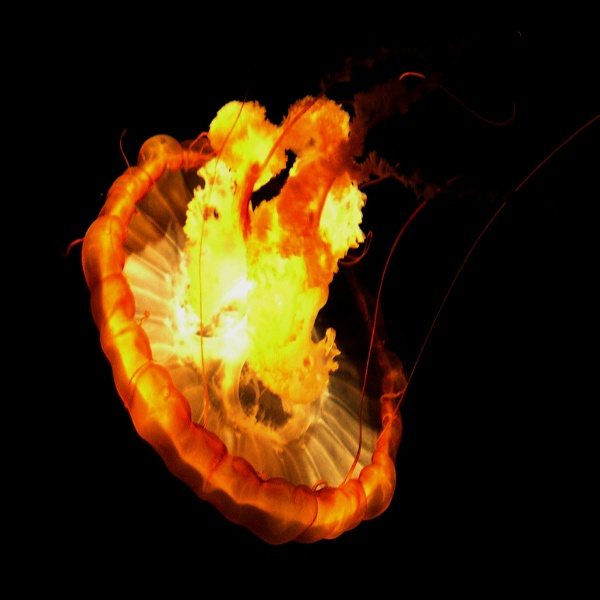Jellyfish: (64, 66, 562, 545)
